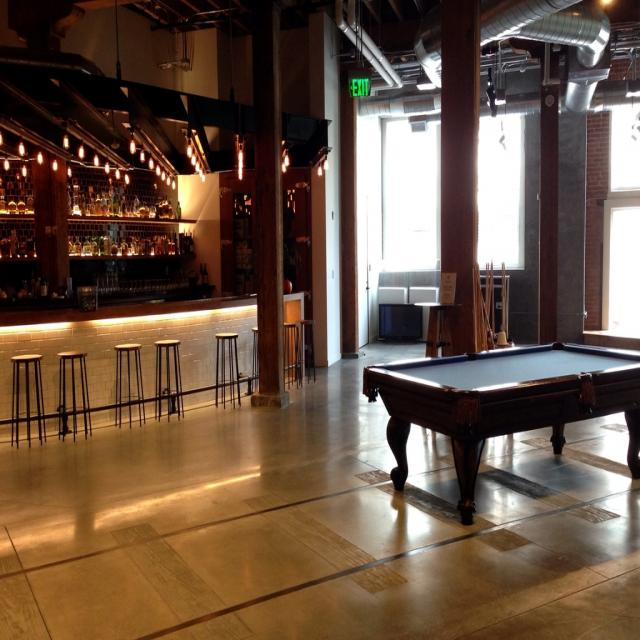Billiard table: (362, 342, 640, 527)
